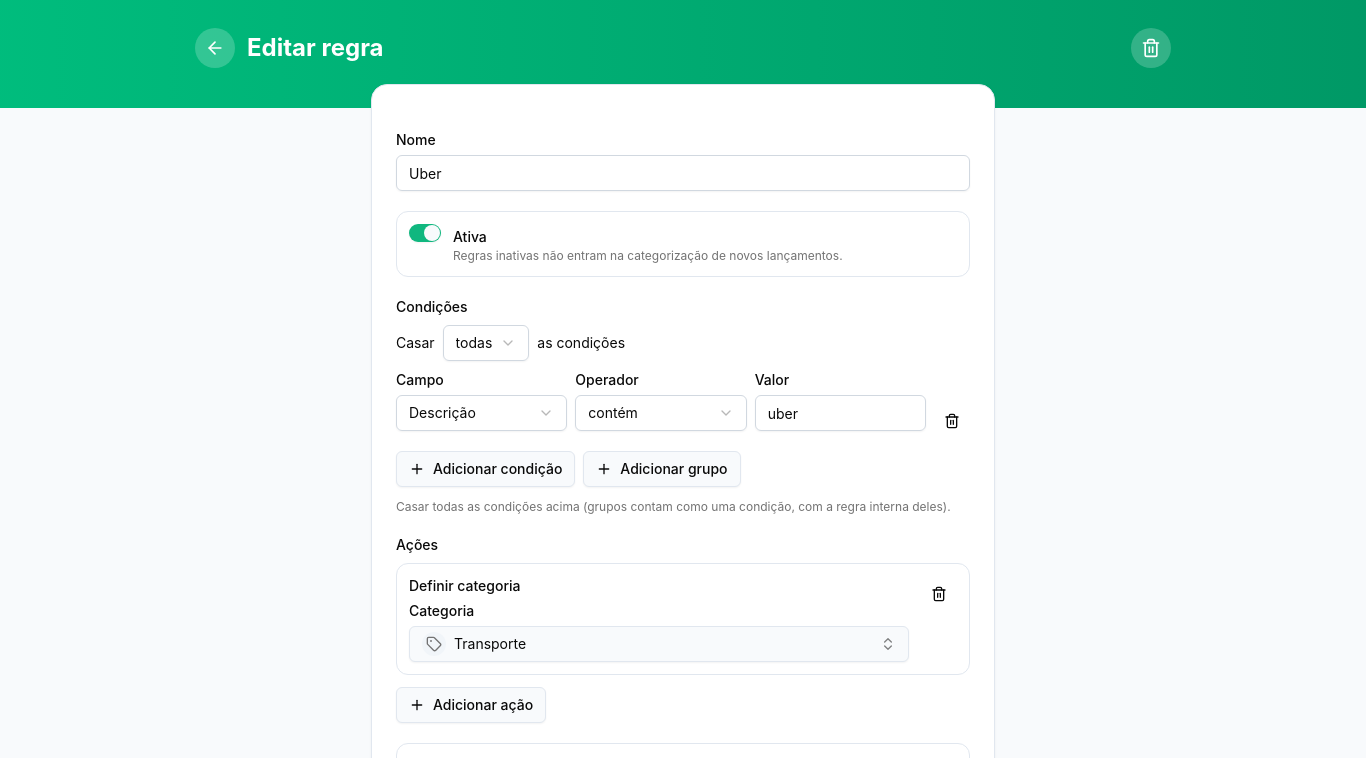
it: RuleEditorPage › editar: salvando duas vezes, a resposta da primeira gravação (que chega por último) é ignorada
Replace the text in the field labelled "Valor" with "uber eats" at point(840, 413), box [755,395,926,431]
(page scrolled)
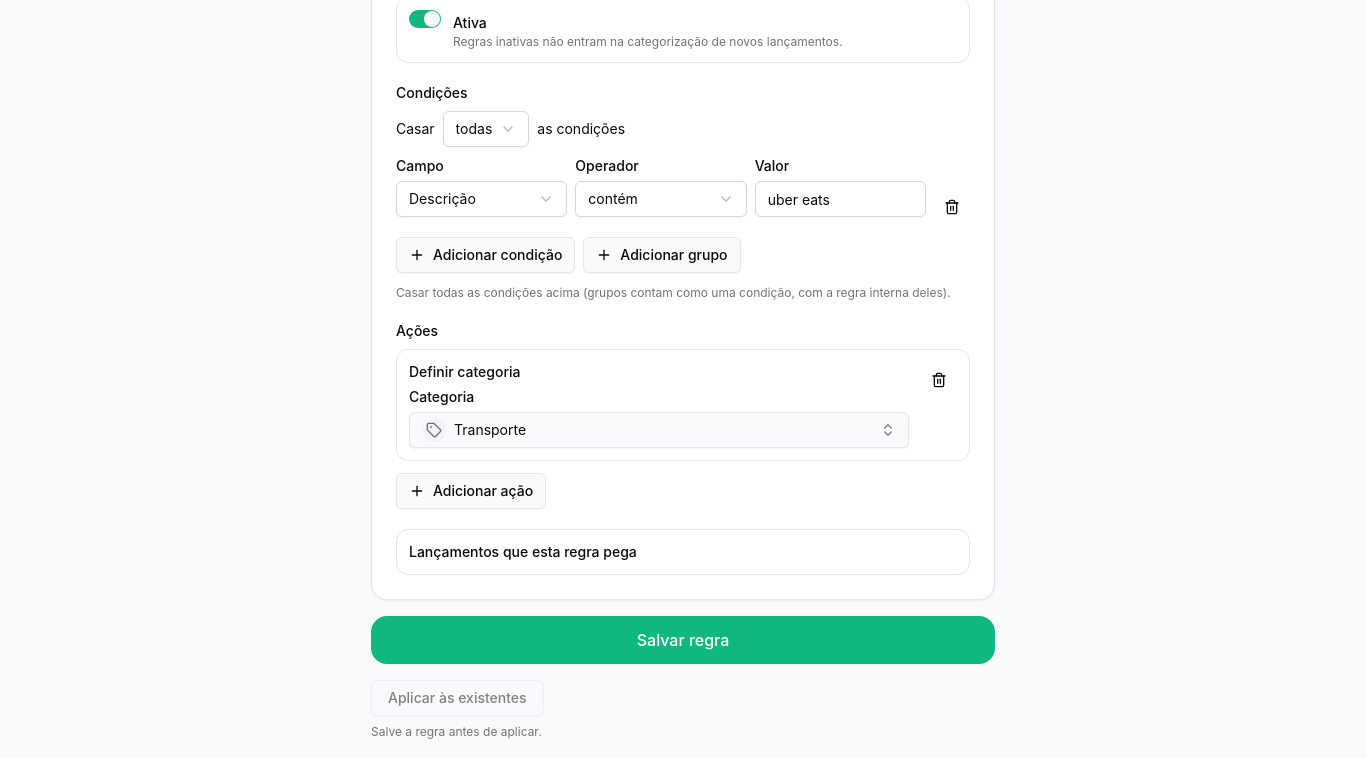
Click the button "Salvar regra" at point(683, 640), box [371,616,995,664]
(page scrolled)
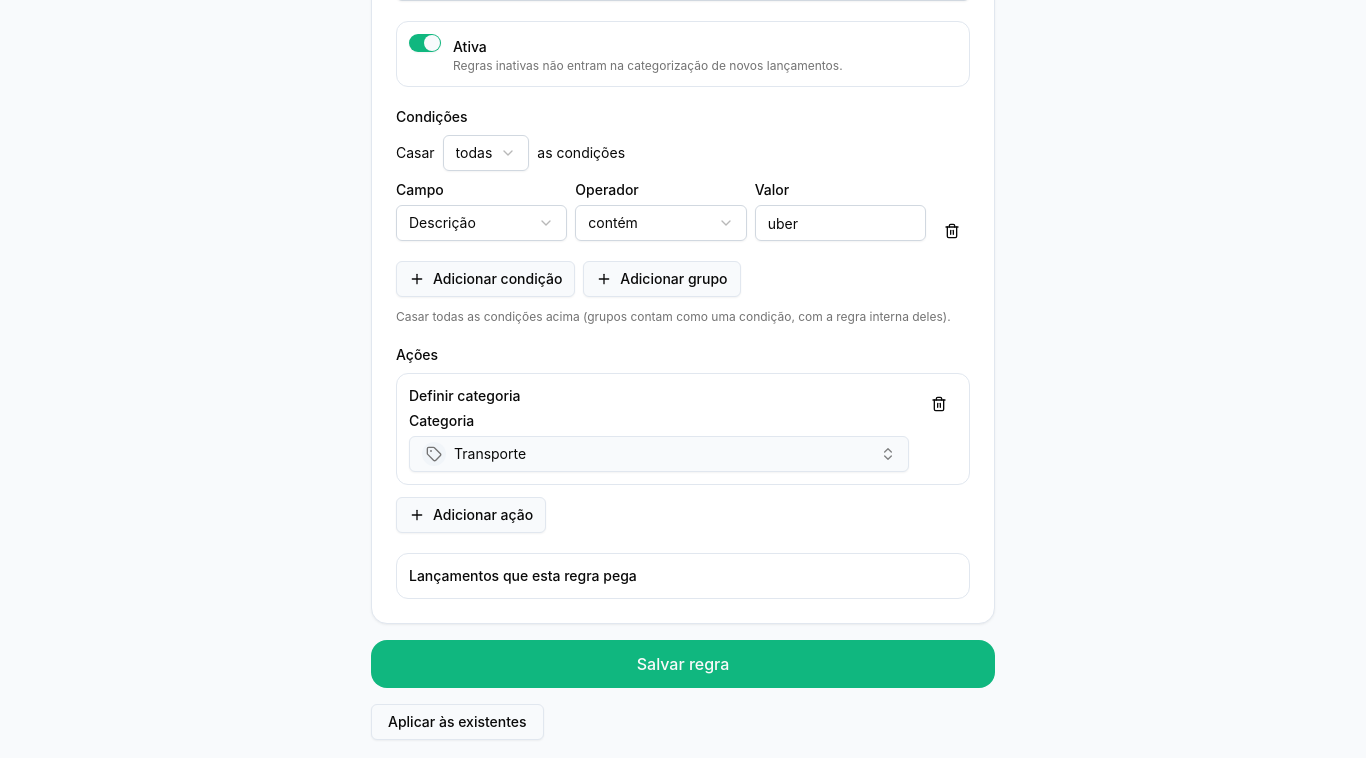
Replace the text in the field labelled "Valor" with "uber eats centro" at point(840, 223), box [755,205,926,241]
(page scrolled)
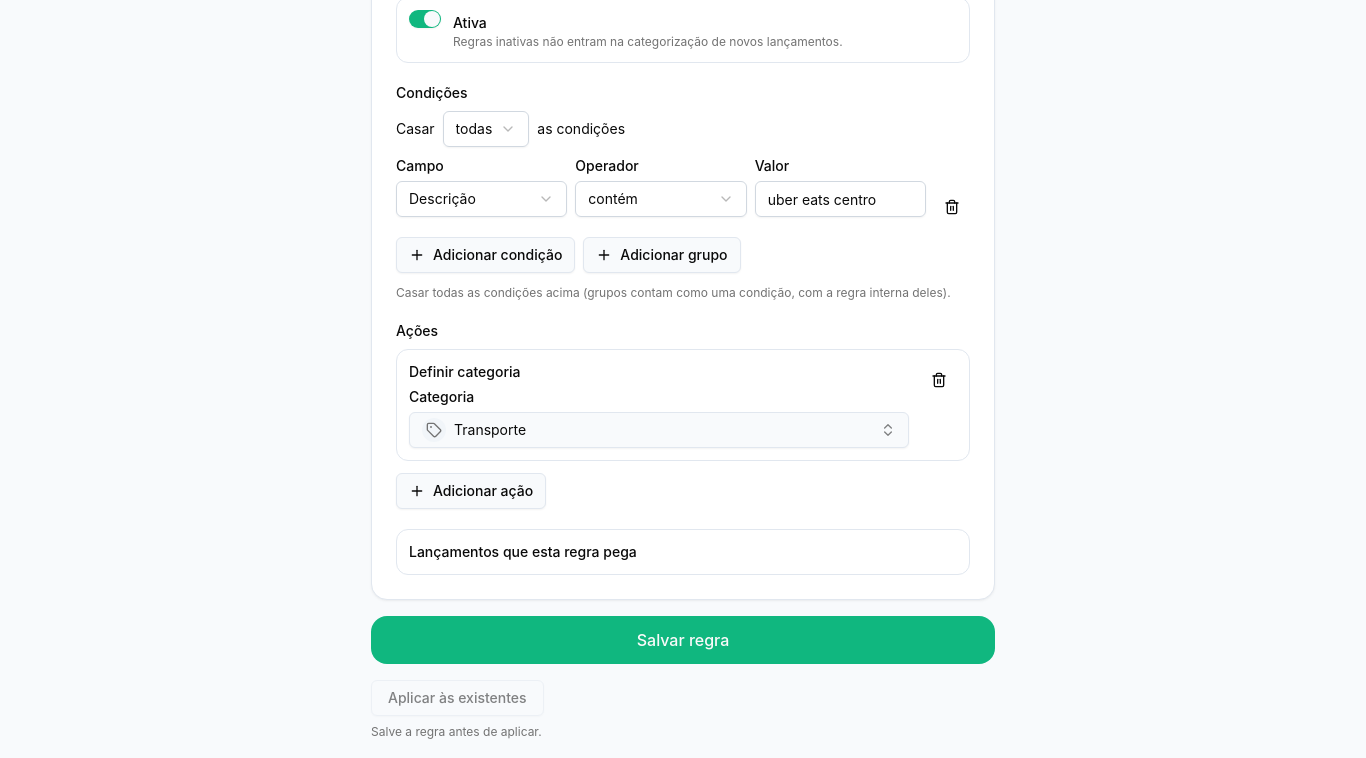
Click the button "Salvar regra" at point(683, 640), box [371,616,995,664]
(page scrolled)
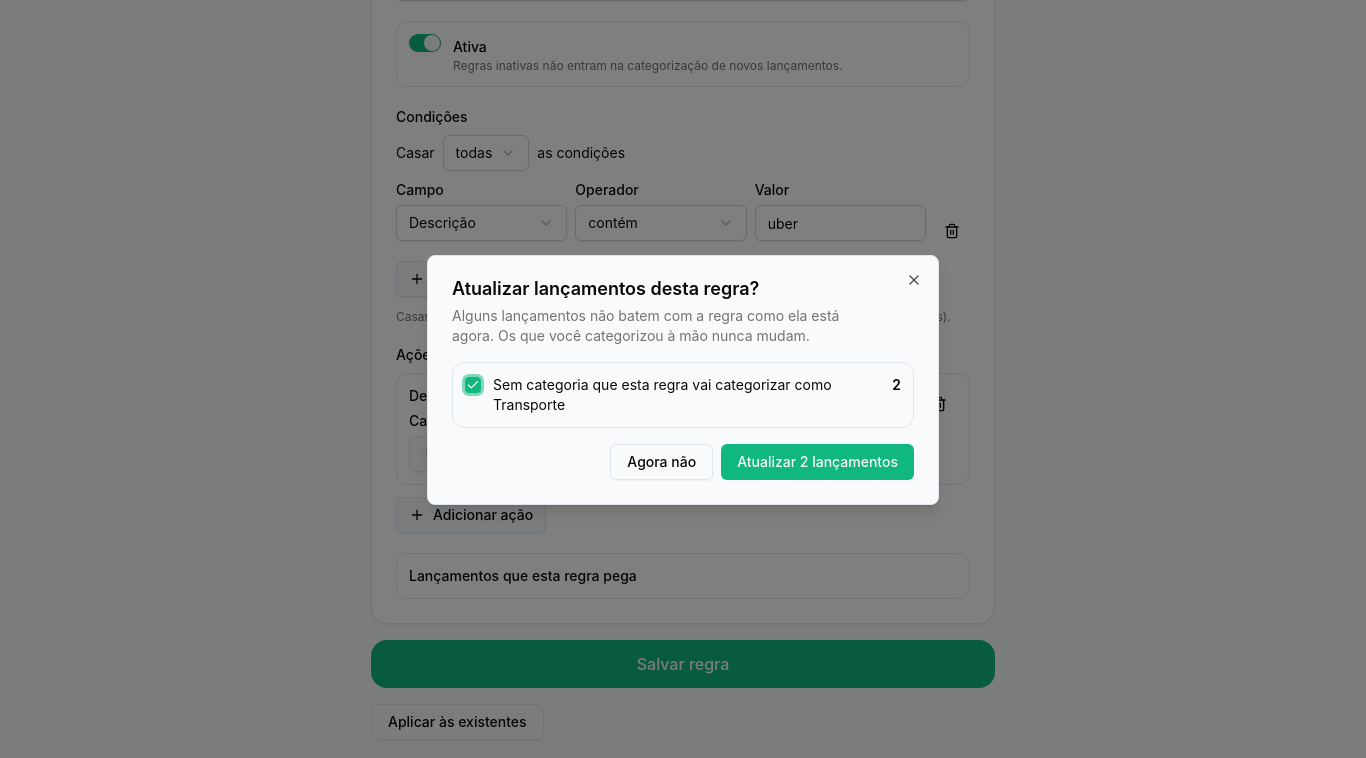
Expected: the button "Atualizar 2 lançamentos" is shown, [721,444,914,480]
